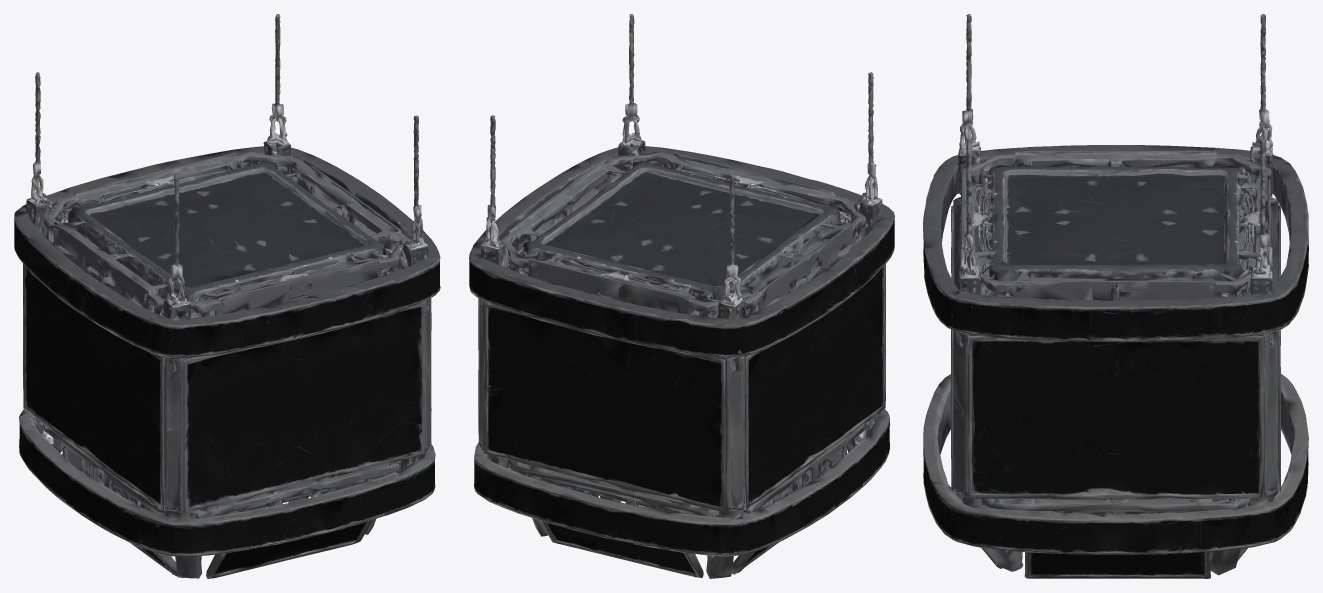
Rendered from jumbo.glb.
3 renders of one model, left to right at view 1: azimuth 30°, elevation 25°; view 2: azimuth 150°, elevation 25°; view 3: azimuth 270°, elevation 25°, orthographic. The views are drawn at different scales.
Size of the model in its own units: 1.47 by 1.9 by 1.47.
1 material, 1 textured.
